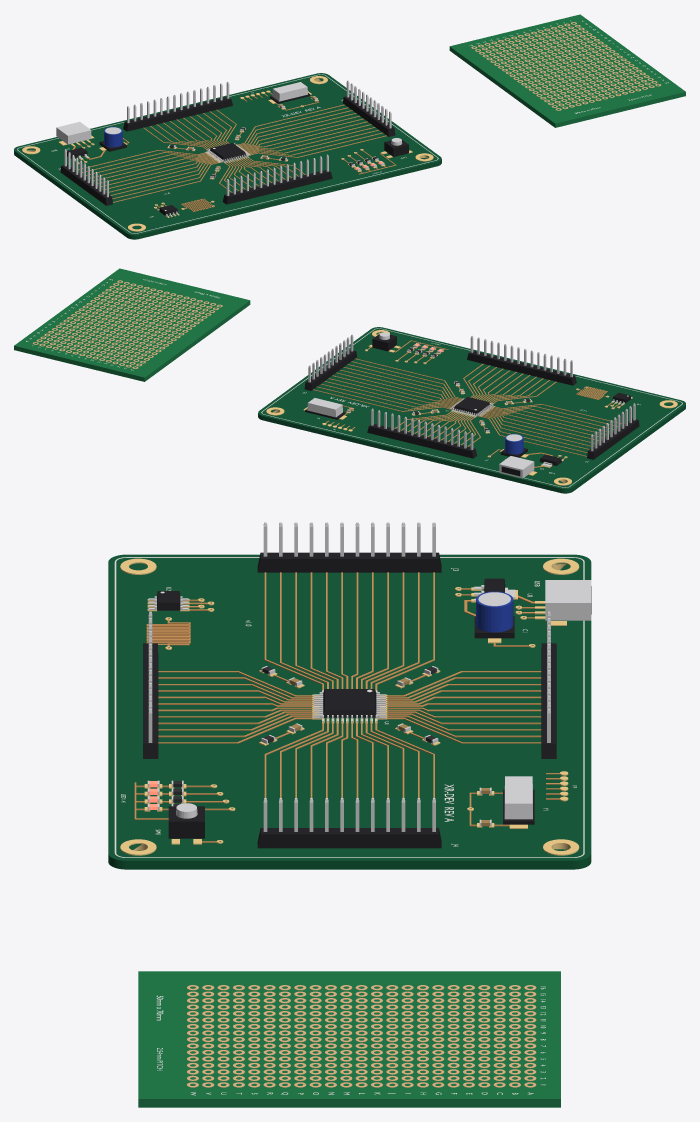
Rendered from pcb.fbx.
The picture shows the model from 3 angles, top to bottom: view 1: azimuth 30°, elevation 25°; view 2: azimuth 150°, elevation 25°; view 3: azimuth 270°, elevation 25°; orthographic projection. The views are drawn at different scales.
Visible parts, largest first — view 1: PCB, Perfboard, Perf_Copper; view 2: PCB, Perfboard, Perf_Copper; view 3: PCB, Perfboard, Perf_Copper.
Part boxes in pixels (box(x1,y1,x2,y2)): PCB: box(14, 73, 441, 239); Perfboard: box(449, 14, 685, 127); Perf_Copper: box(471, 22, 661, 110); PCB: box(258, 327, 685, 493); Perfboard: box(14, 268, 250, 381); Perf_Copper: box(33, 280, 222, 368); PCB: box(108, 522, 591, 869); Perfboard: box(138, 971, 560, 1107); Perf_Copper: box(187, 985, 536, 1087).
Size of the model in its own units: 21.5 by 1.27 by 8.01.
